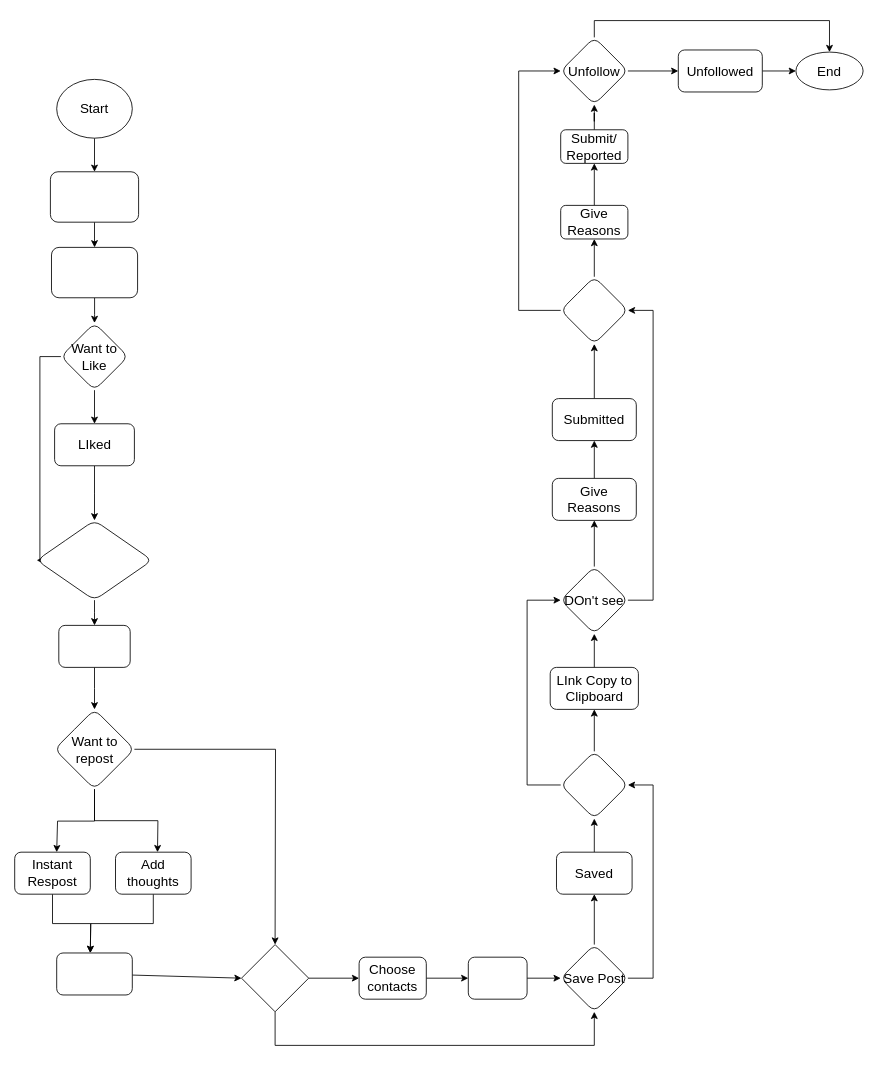
Some shapes in this 878 by 1067 pixel diagram are drawn without their labels. The centre of each missing label's shape, as x and y in pixels:
Comment Posted: the point at 94,646
Copy Link: the point at 594,785
Logged In: the point at 94,196
Read a Post: the point at 94,272
Report Post: the point at 594,310
Reposted: the point at 94,973
Sent: the point at 497,977
Share: the point at 275,978
Want to add coment: the point at 94,560
